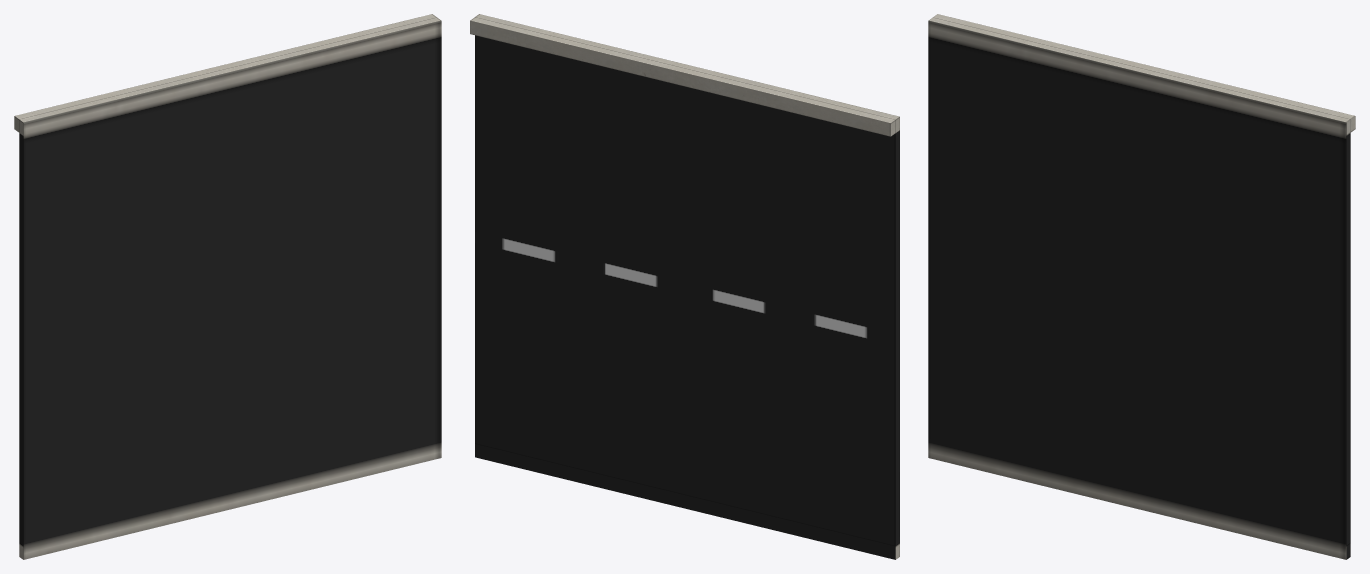
Rendered from asphalt-road-block-one-side-subwalk-4m.obj.
3 renders of one model, left to right at view 1: azimuth 30°, elevation 25°; view 2: azimuth 150°, elevation 25°; view 3: azimuth 330°, elevation 25°, orthographic.
Visible parts, largest first — view 1: asphalt-road-block-one-side-subwalk-4m_Plane.039; view 2: asphalt-road-block-one-side-subwalk-4m_Plane.039; view 3: asphalt-road-block-one-side-subwalk-4m_Plane.039.
Boxes of the visible parts, box(x1,y1,x2,y2) form: asphalt-road-block-one-side-subwalk-4m_Plane.039: box(14, 14, 441, 559); asphalt-road-block-one-side-subwalk-4m_Plane.039: box(470, 14, 899, 559); asphalt-road-block-one-side-subwalk-4m_Plane.039: box(928, 14, 1355, 559).
Size of the model in its own units: 4 by 4 by 0.15.
